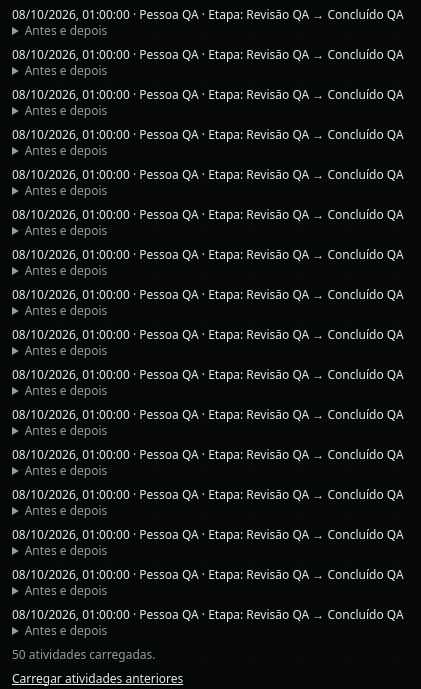
Test: M02: atividade paginada da tarefa, API simulada › consulta121 registros com empate de data, canário antigo, três páginas e fim explícito
(page scrolled)
Check: the text "50 atividades carregadas." is shown, box [12,646,156,662]
Check: the text "Fim desta consulta." is not shown
Click the button "Carregar atividades anteriores".
click(98, 678)  # box [12,670,183,686]
(page scrolled)
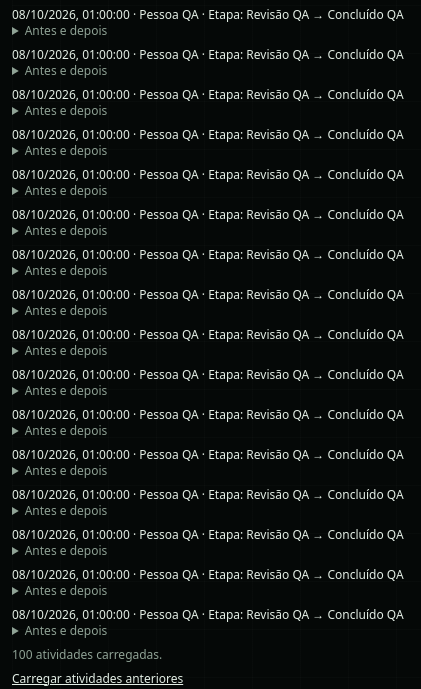
Check: the text "100 atividades carregadas." is shown, box [12,646,162,662]
Click the button "Carregar atividades anteriores".
click(98, 678)  # box [12,670,183,686]
(page scrolled)
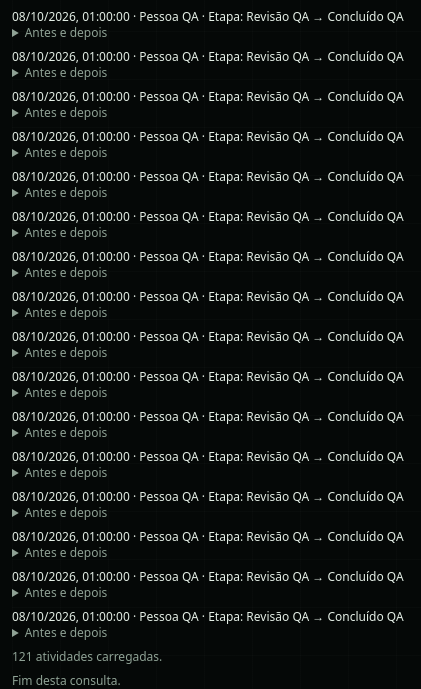
Check: the text "121 atividades carregadas." is shown, box [12,648,162,664]
Check: the text "Fim desta consulta." is shown, box [12,672,121,688]
